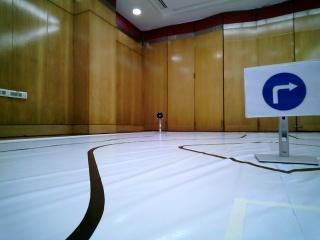right: (246, 68, 320, 116)
